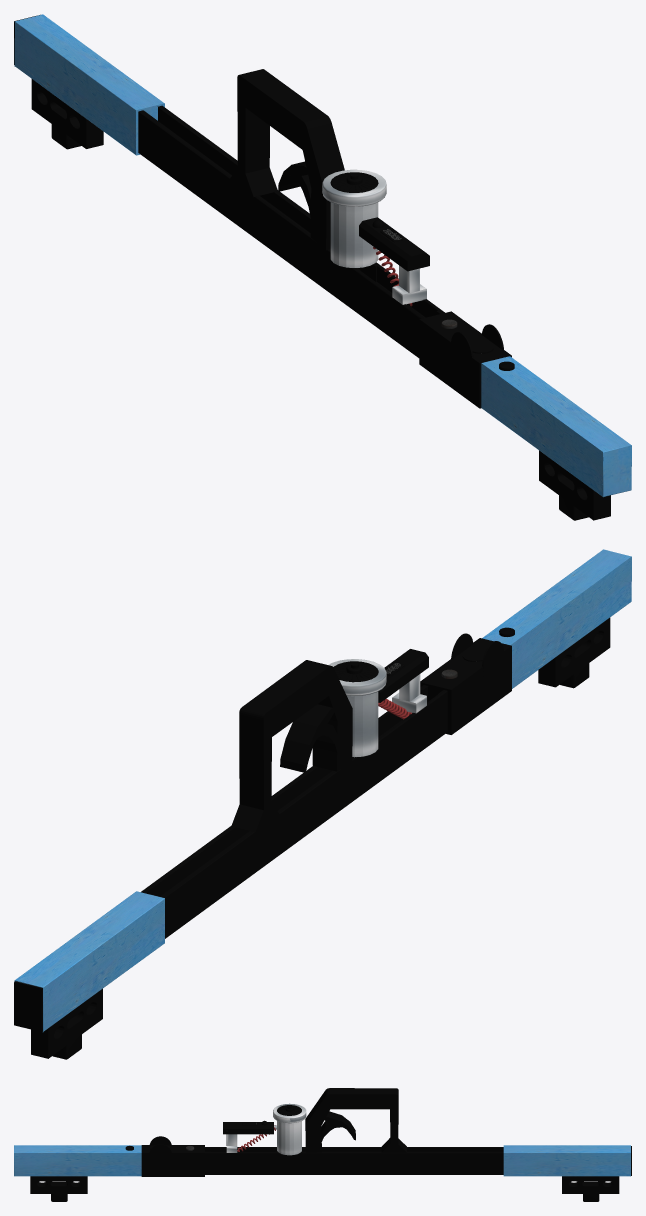
3 renders of one model, top to bottom at view 1: azimuth 30°, elevation 25°; view 2: azimuth 150°, elevation 25°; view 3: azimuth 270°, elevation 25°, orthographic. The views are drawn at different scales.
Visible parts, largest first — view 1: Box001; view 2: Box001; view 3: Box001.
Boxes of the visible parts, bbox=[...] form: Box001: bbox=[14, 14, 631, 520]; Box001: bbox=[14, 549, 631, 1059]; Box001: bbox=[14, 1088, 631, 1201].
Size of the model in its own units: 0.08 by 0.2835 by 1.46.
9 materials, 4 textured.
